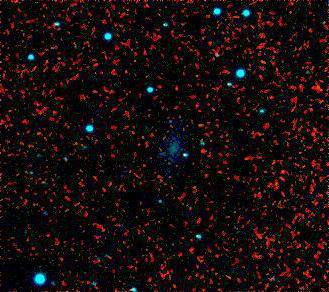star: (188, 111, 218, 141)
